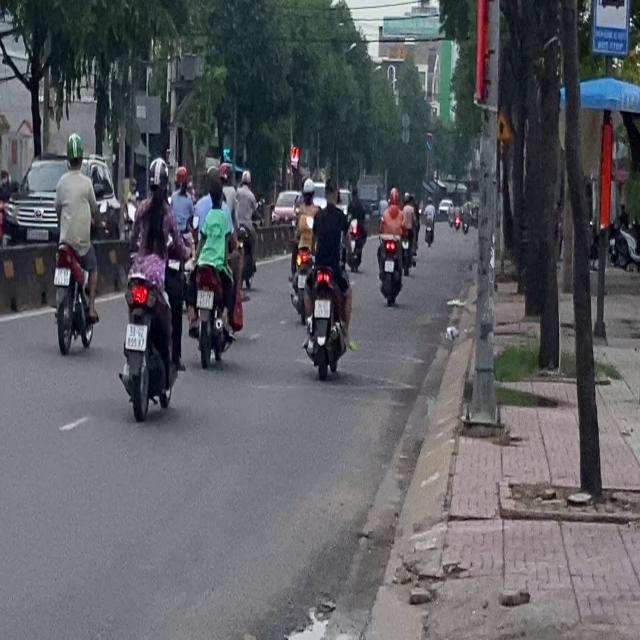helmet: (146, 156, 168, 193), (64, 132, 84, 169), (218, 161, 231, 184)
licenseplate: (118, 153, 184, 419), (188, 160, 243, 367), (50, 131, 100, 354), (301, 174, 354, 378)
motorcyclist: (206, 172, 222, 205), (323, 177, 338, 204)
nohelmet: (125, 324, 146, 349), (314, 299, 330, 317), (196, 289, 212, 307), (54, 267, 69, 284)
